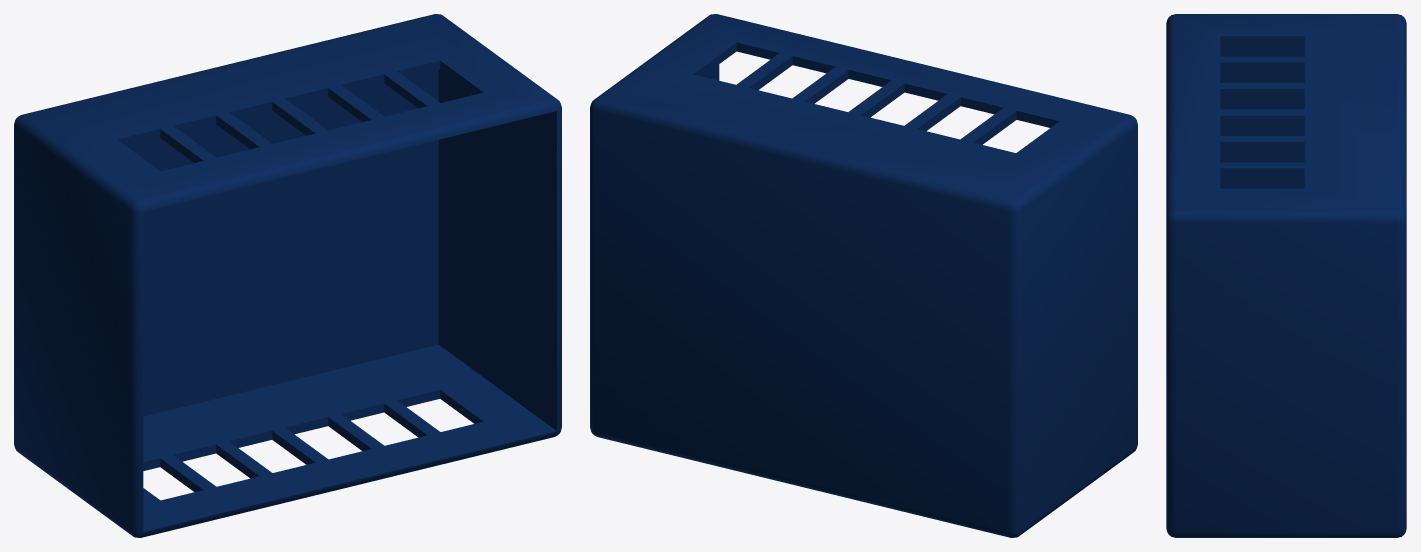
Rendered from harvest_crate.obj.
3 renders of one model, left to right at view 1: azimuth 30°, elevation 25°; view 2: azimuth 150°, elevation 25°; view 3: azimuth 270°, elevation 25°, orthographic. The views are drawn at different scales.
Parts seen in each view (by area): view 1: crate; view 2: crate; view 3: crate.
Part boxes in pixels (<box>): crate: <box>14,14,561,537</box>; crate: <box>590,14,1137,537</box>; crate: <box>1166,14,1406,537</box>.
Bounding box in the file's own units: 0.4 × 0.3 × 0.2.
